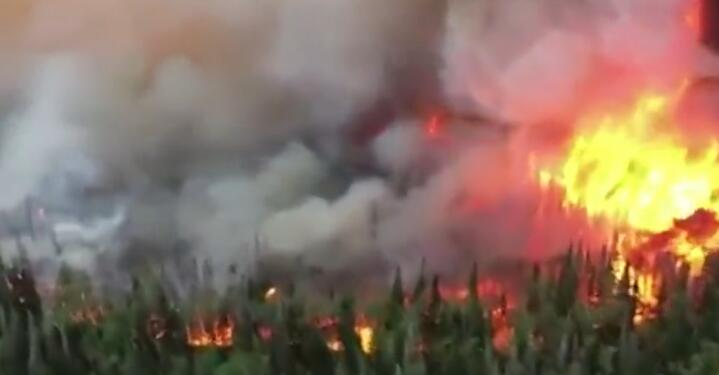fire: (526, 89, 719, 324), (305, 312, 376, 356), (178, 313, 235, 352)
smoke: (3, 1, 718, 307)
